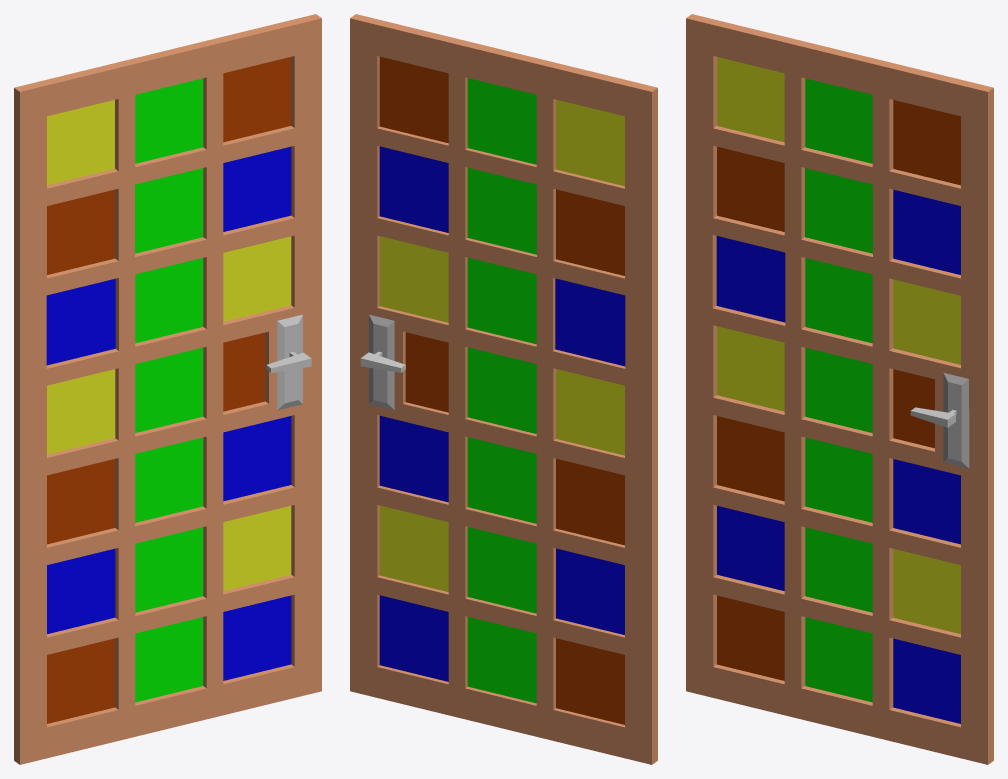
File: Door_01.fbx
3 renders of one model, left to right at view 1: azimuth 30°, elevation 25°; view 2: azimuth 150°, elevation 25°; view 3: azimuth 330°, elevation 25°, orthographic.
Visible parts, largest first — view 1: Door_01, Door_01_Glass; view 2: Door_01, Door_01_Glass; view 3: Door_01, Door_01_Glass.
Part boxes in pixels (box(x1,y1,x2,y2)): Door_01: box(14, 14, 321, 764); Door_01_Glass: box(46, 57, 291, 723); Door_01: box(350, 14, 657, 764); Door_01_Glass: box(379, 56, 625, 724); Door_01: box(686, 14, 993, 764); Door_01_Glass: box(716, 57, 960, 723).
Size of the model in its own units: 104 by 222 by 21.3.
